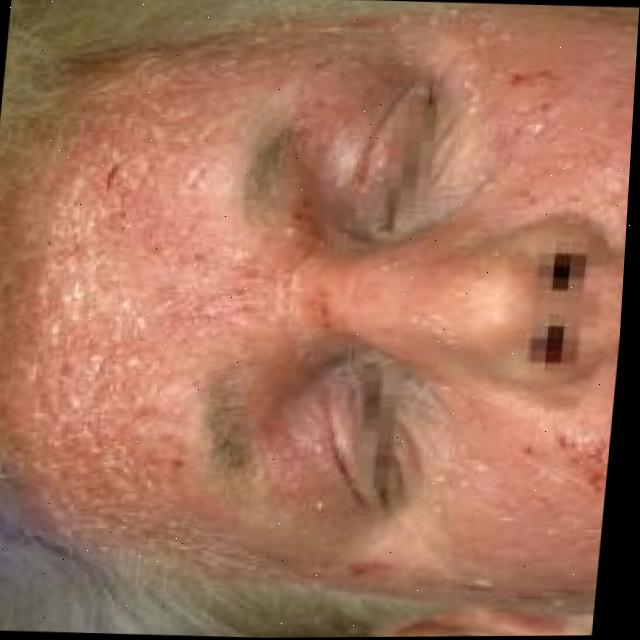Eczema: (37, 85, 290, 485), (524, 420, 611, 549)
